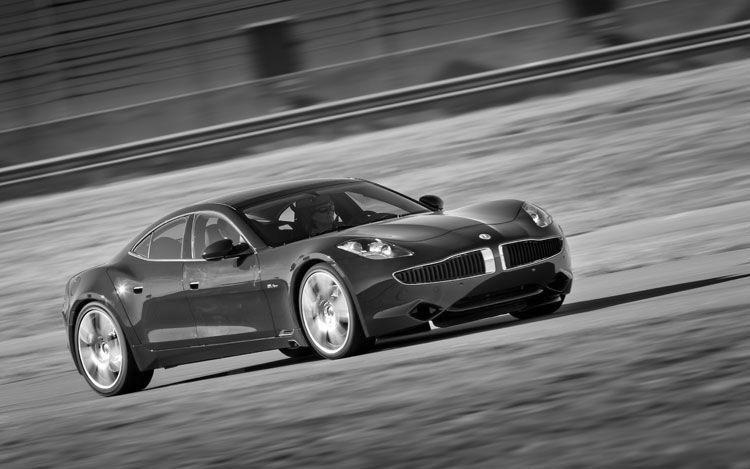car: (63, 176, 573, 400)
